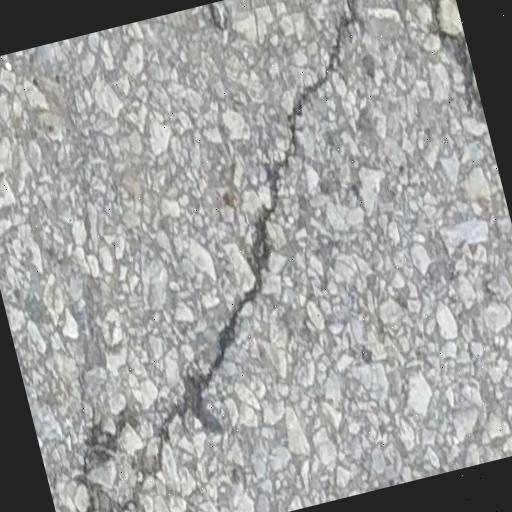spalling: (65, 0, 367, 512)
